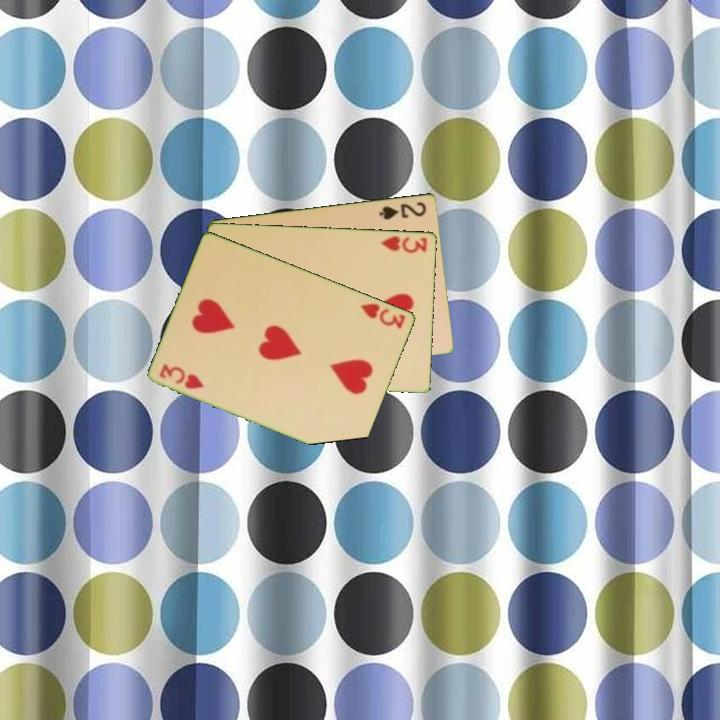2s: (376, 198, 429, 223)
3h: (357, 300, 408, 332), (156, 360, 207, 392), (377, 232, 430, 256)
